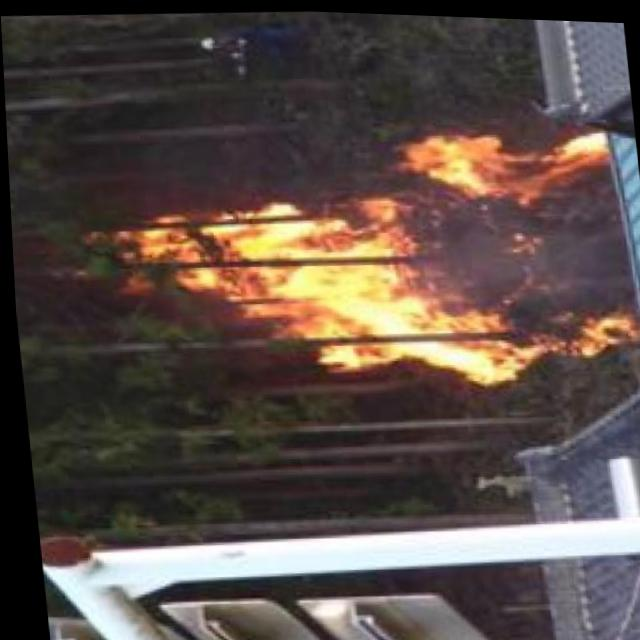Fire: (108, 116, 640, 396)
